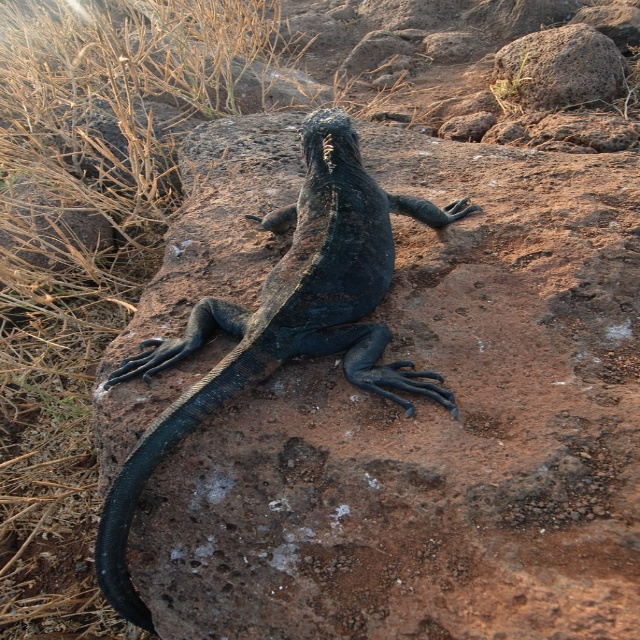Lizard: (111, 90, 472, 560)
